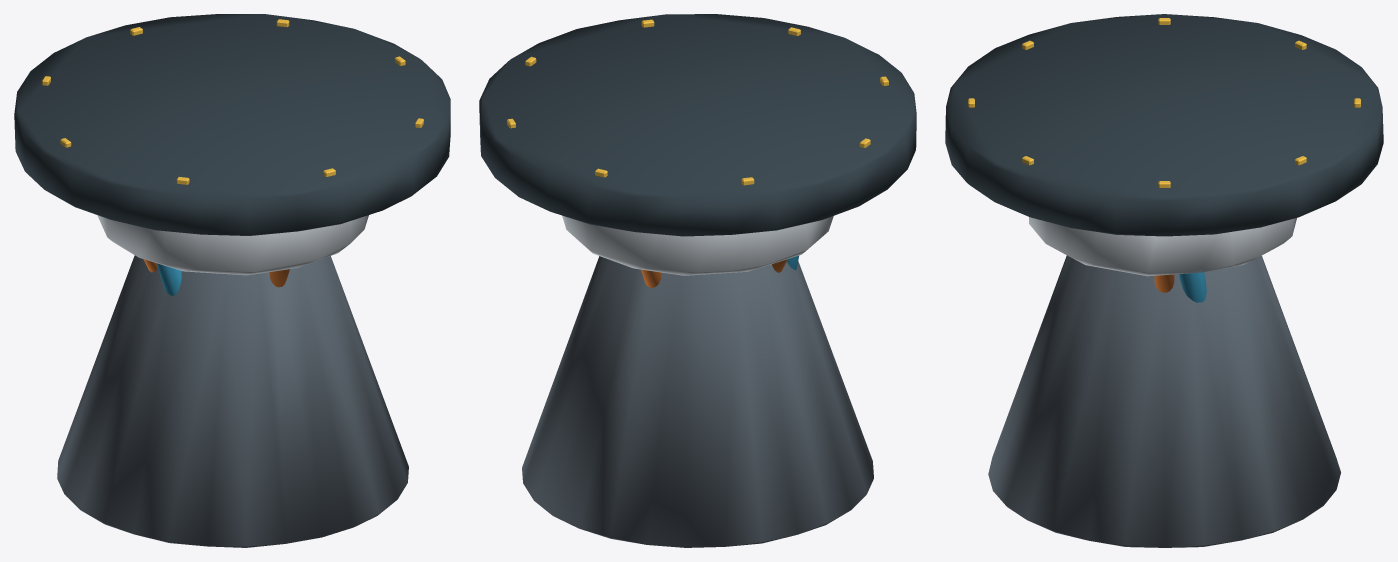
The model's file is perilune-pike-engine.glb.
The picture shows the model from 3 angles, left to right: view 1: azimuth 30°, elevation 25°; view 2: azimuth 150°, elevation 25°; view 3: azimuth 270°, elevation 25°; orthographic projection.
Visible parts, largest first — view 1: SM_Engine_Pike_Mount, SM_Engine_Pike_Bell, SM_Engine_Pike_Pump, SM_Engine_Pike_FeedA; view 2: SM_Engine_Pike_Mount, SM_Engine_Pike_Bell, SM_Engine_Pike_Pump; view 3: SM_Engine_Pike_Mount, SM_Engine_Pike_Bell, SM_Engine_Pike_Pump, SM_Engine_Pike_FeedB.
Boxes of the visible parts, left/top/right/bottom form: SM_Engine_Pike_Mount: left=14, top=14, right=450, bottom=235; SM_Engine_Pike_Bell: left=57, top=255, right=408, bottom=547; SM_Engine_Pike_Pump: left=97, top=215, right=368, bottom=275; SM_Engine_Pike_FeedA: left=156, top=263, right=181, bottom=295; SM_Engine_Pike_Mount: left=479, top=14, right=916, bottom=236; SM_Engine_Pike_Bell: left=522, top=256, right=873, bottom=547; SM_Engine_Pike_Pump: left=562, top=215, right=833, bottom=275; SM_Engine_Pike_Mount: left=945, top=14, right=1383, bottom=236; SM_Engine_Pike_Bell: left=988, top=255, right=1340, bottom=547; SM_Engine_Pike_Pump: left=1029, top=217, right=1296, bottom=276; SM_Engine_Pike_FeedB: left=1179, top=272, right=1206, bottom=302.
Size of the model in its own units: 1.16 by 1.11 by 1.16.
